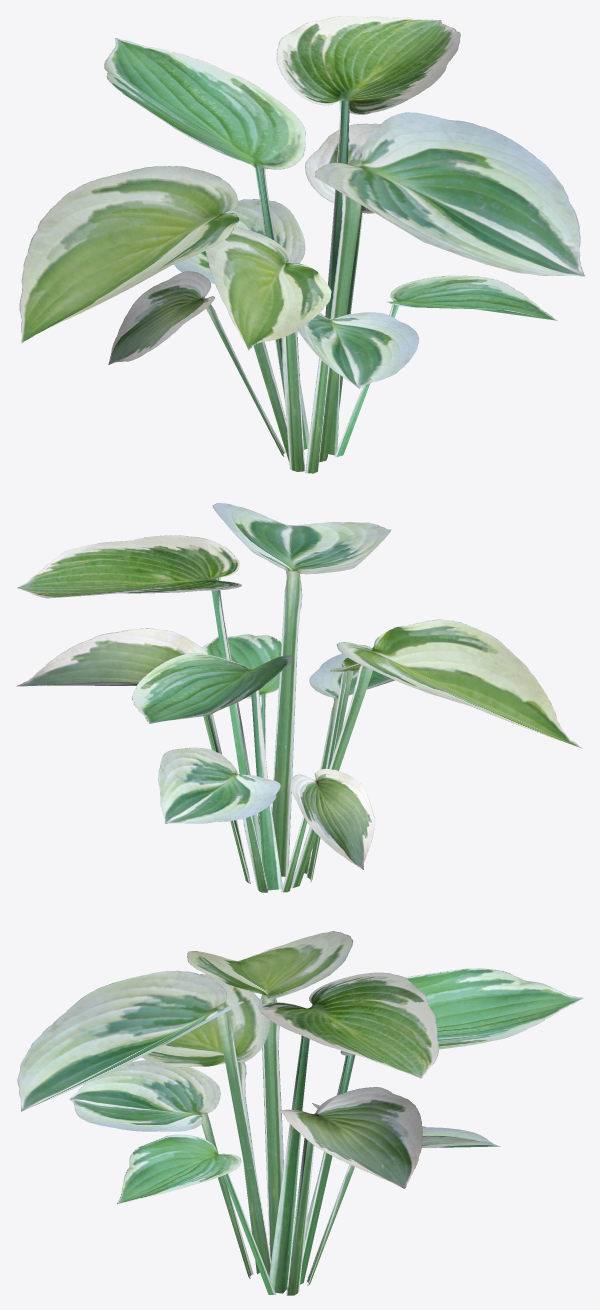
The model's file is plant_small_wg_00L.fbx.
3 renders of one model, top to bottom at view 1: azimuth 30°, elevation 25°; view 2: azimuth 150°, elevation 25°; view 3: azimuth 270°, elevation 25°, orthographic. The views are drawn at different scales.
Parts seen in each view (by area): view 1: plant_small_wg_00L; view 2: plant_small_wg_00L; view 3: plant_small_wg_00L.
Part boxes in pixels (bbox=[...]): plant_small_wg_00L: bbox=[19, 16, 584, 473]; plant_small_wg_00L: bbox=[16, 503, 582, 892]; plant_small_wg_00L: bbox=[17, 931, 583, 1295].
Size of the model in its own units: 58.75 by 37.71 by 60.2.
1 material, 1 textured.
